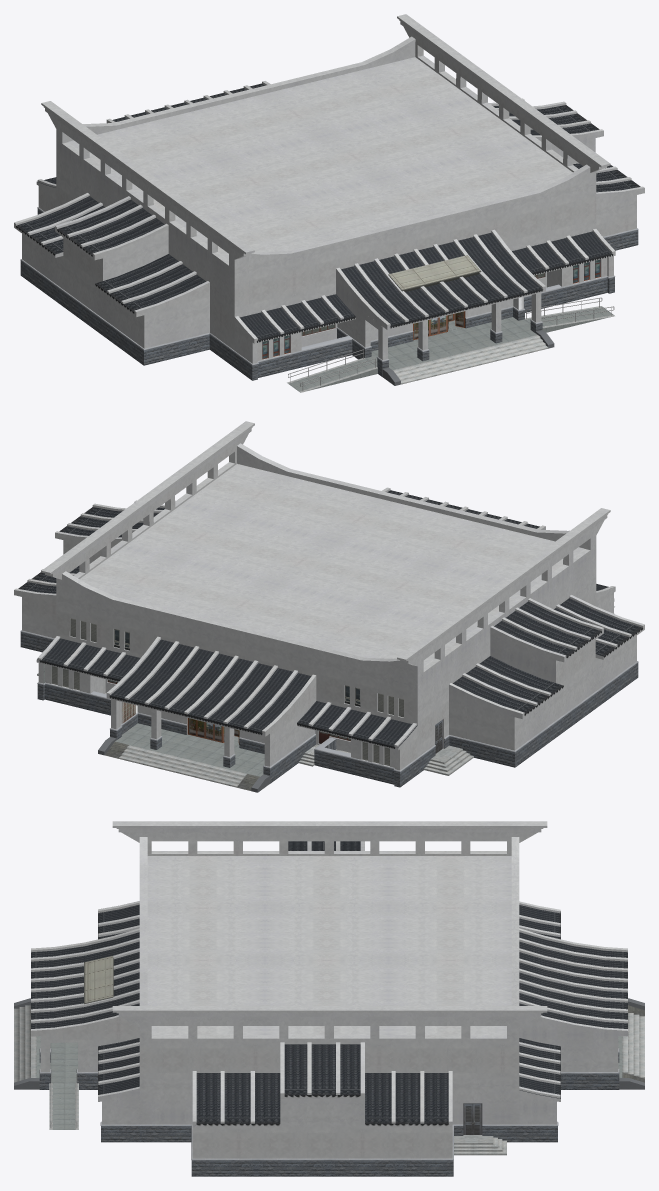
Rendered from Building_ChenyunHouse.FBX.
3 views of the same model, one above another, from view 1: azimuth 30°, elevation 25°; view 2: azimuth 150°, elevation 25°; view 3: azimuth 270°, elevation 25° (orthographic). The views are drawn at different scales.
Visible parts, largest first — view 1: Building_ChenyunHouse, Metal, Building_ChenyunHouse_Door; view 2: Building_ChenyunHouse, Building_ChenyunHouse_Door; view 3: Building_ChenyunHouse.
Boxes of the visible parts, <box> form: Building_ChenyunHouse: <box>14,14,644,392</box>; Metal: <box>288,297,614,390</box>; Building_ChenyunHouse_Door: <box>413,311,464,340</box>; Building_ChenyunHouse: <box>14,421,644,792</box>; Building_ChenyunHouse_Door: <box>187,718,239,744</box>; Building_ChenyunHouse: <box>14,821,644,1176</box>.
Size of the model in its own units: 6046 by 1414 by 6099.
